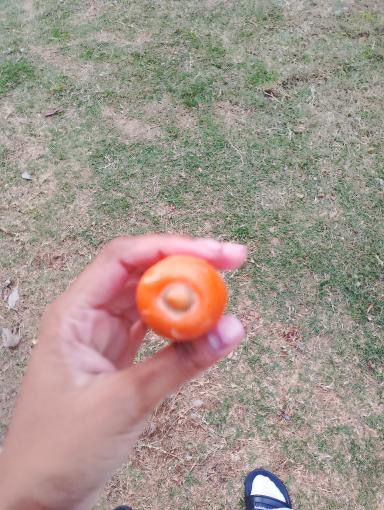carrot: (133, 256, 237, 352)
